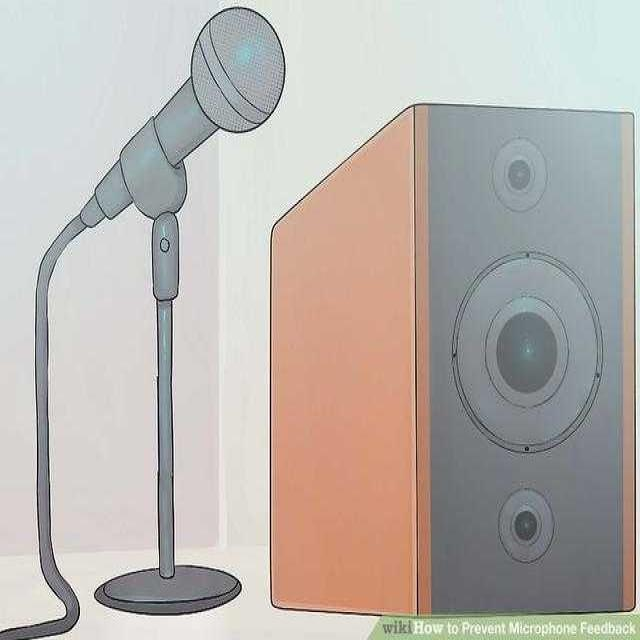microphone: (91, 7, 289, 239)
